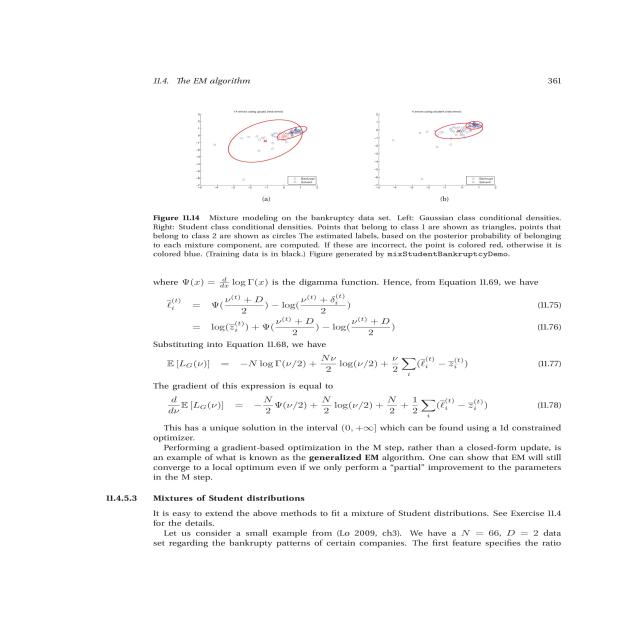diagram: (31, 101, 637, 265)
